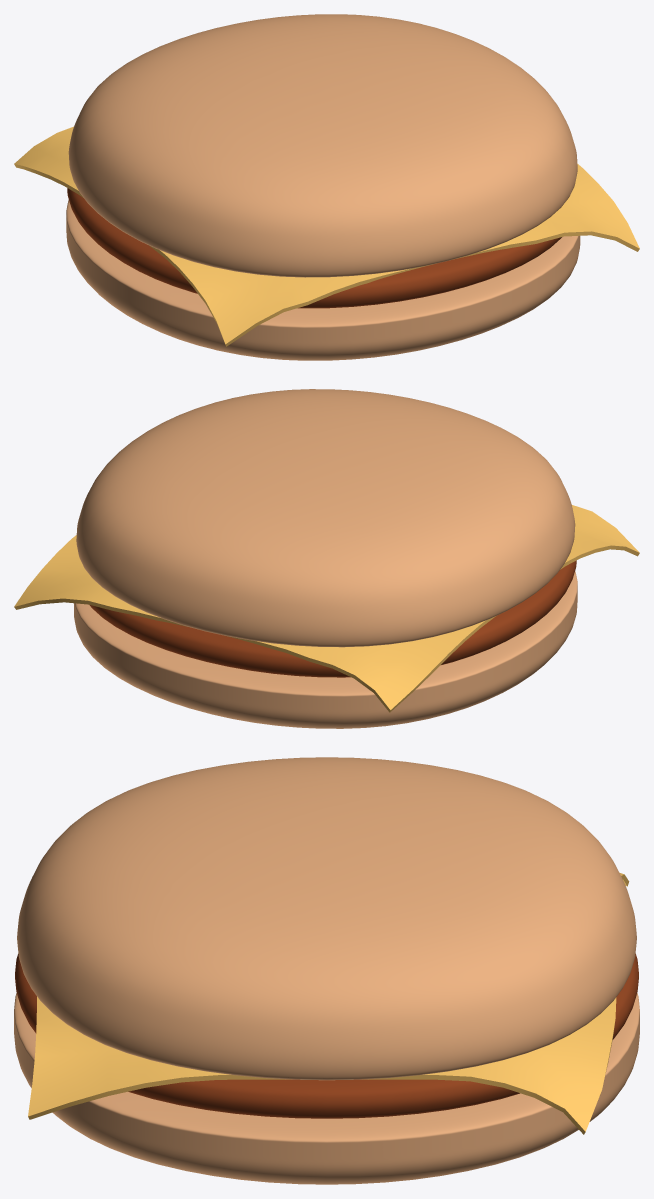
File: hamburger.glb
3 renders of one model, top to bottom at view 1: azimuth 30°, elevation 25°; view 2: azimuth 150°, elevation 25°; view 3: azimuth 270°, elevation 25°, orthographic. The views are drawn at different scales.
Parts seen in each view (by area): view 1: Cube.002, Cube, Plane, Cube.001; view 2: Cube.002, Cube, Plane, Cube.001; view 3: Cube.002, Cube, Plane, Cube.001.
Boxes of the visible parts, left/top/right/bottom form: Cube.002: left=68, top=14, right=577, bottom=277; Cube: left=66, top=200, right=580, bottom=360; Plane: left=14, top=126, right=639, bottom=346; Cube.001: left=67, top=188, right=561, bottom=308; Cube.002: left=76, top=389, right=575, bottom=647; Cube: left=74, top=571, right=577, bottom=728; Plane: left=14, top=505, right=639, bottom=712; Cube.001: left=89, top=560, right=576, bottom=677; Cube.002: left=17, top=757, right=636, bottom=1080; Cube: left=14, top=993, right=639, bottom=1184; Plane: left=28, top=872, right=629, bottom=1134; Cube.001: left=15, top=954, right=638, bottom=1118.
Bounding box in the file's own units: 9.26 × 4.11 × 9.26.
